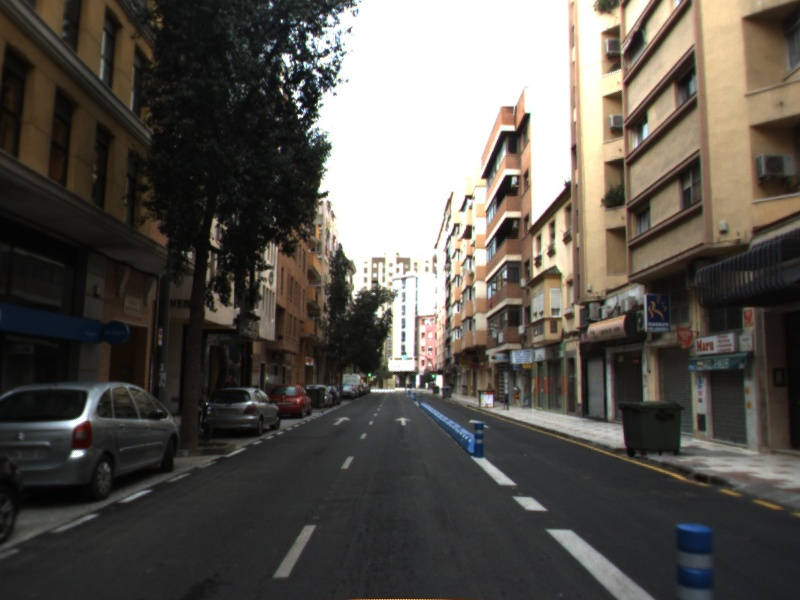STRAIGHT: (393, 415, 413, 427), (332, 415, 352, 427)
